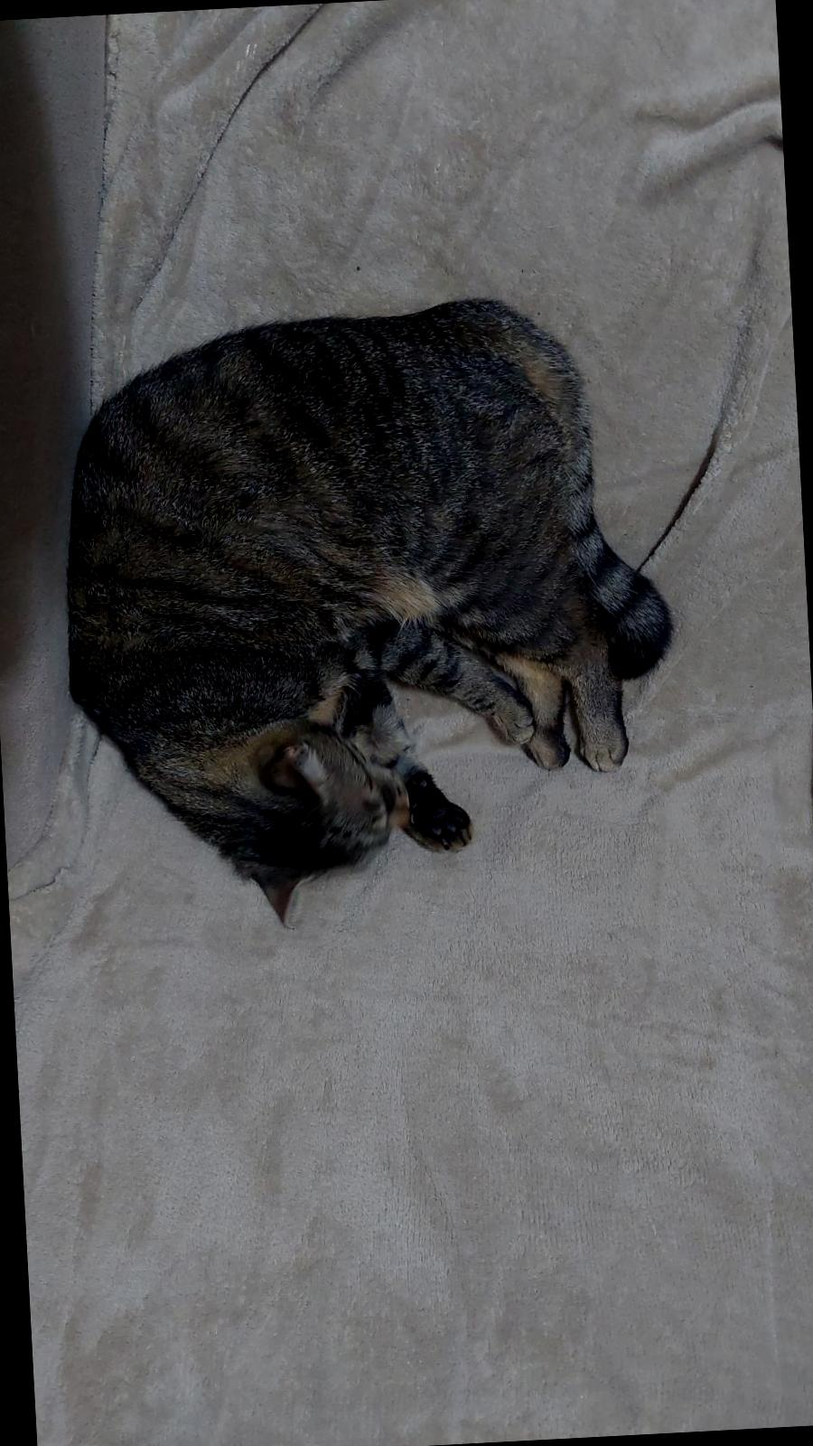macka: (53, 287, 692, 936)
